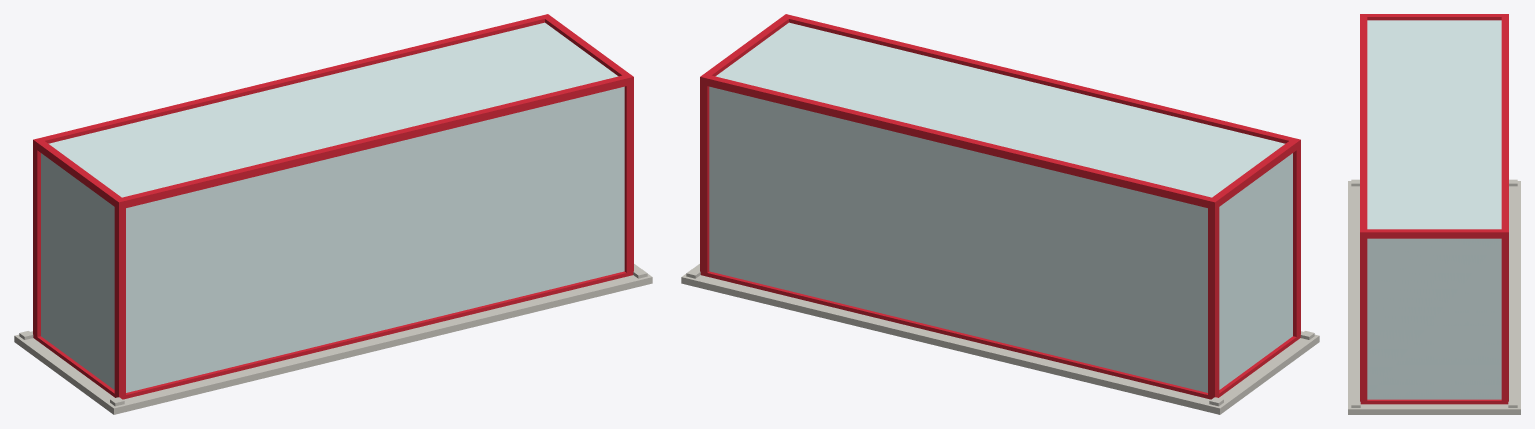
Rendered from mclaren-senna-gtr-dark-knight.glb.
3 views of the same model, side by side, from view 1: azimuth 30°, elevation 25°; view 2: azimuth 150°, elevation 25°; view 3: azimuth 270°, elevation 25° (orthographic). The views are drawn at different scales.
Size of the model in its own units: 0.522 by 0.1895 by 0.167.
